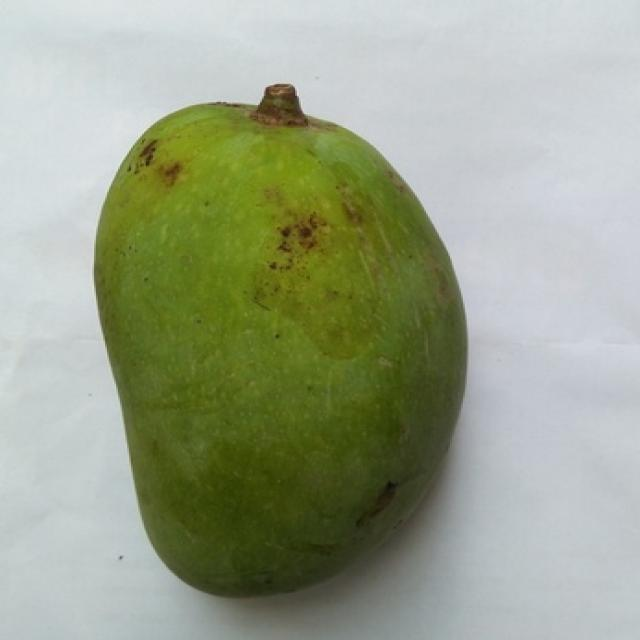Mango: (96, 104, 463, 594)
